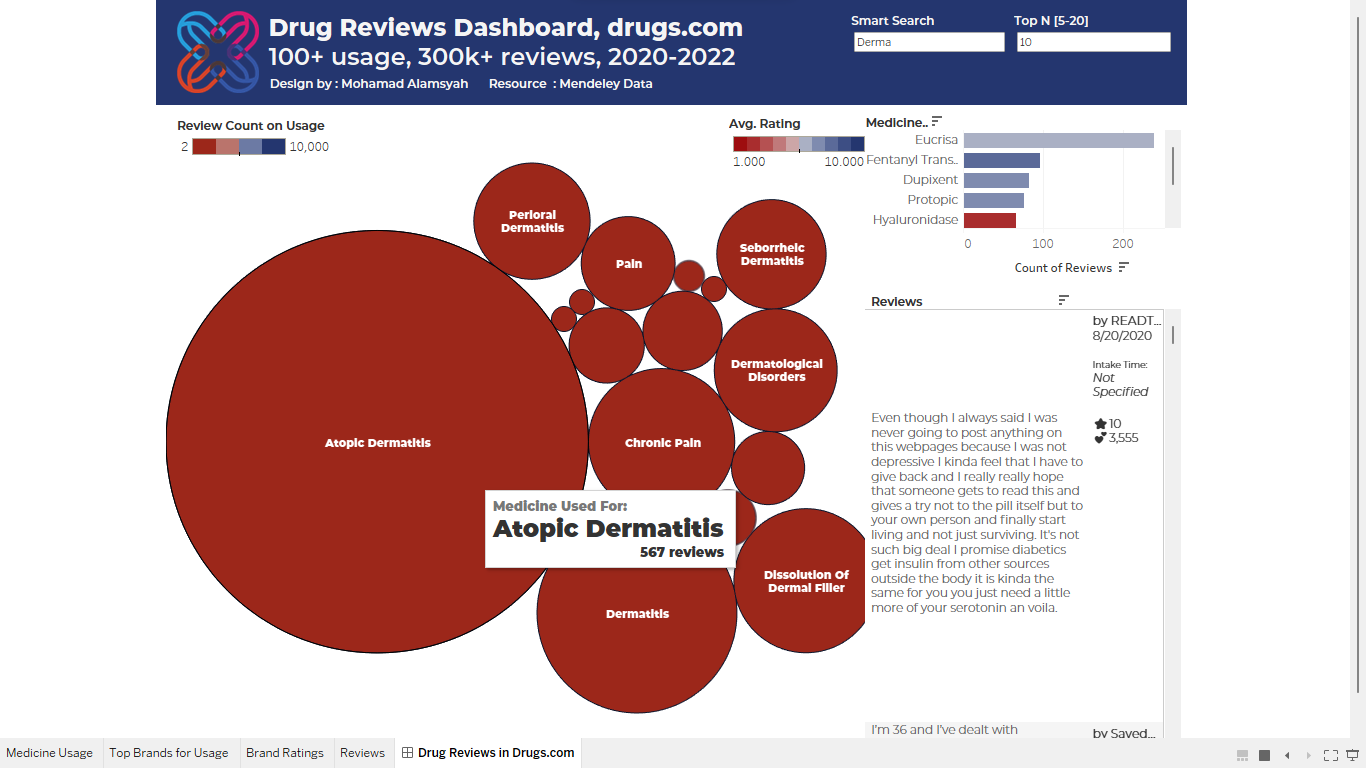

What the dashboard file says about the page in this screenshot:
{"tool":"tableau","page":{"name":"drug-reviews-bigquery","canvas":[1000,800],"ordinal":0},"visuals":[{"type":"text","box":[92,10,523,68]},{"type":"image","param":"C:/Users/acer/Downloads/PROJECTS-2.0/DrugReviews/drugscom-logomark-112x112.png","box":[11,14,78,83]},{"type":"parameter","param":"[Parameters].[Parameter 2]","box":[807,14,159,67]},{"type":"parameter","param":"[Parameters].[Parameter 1]","box":[619,15,151,44]},{"type":"text","box":[620,56,180,45]},{"type":"text","box":[819,62,134,33]},{"type":"text","box":[93,68,440,32]},{"type":"worksheet","title":"Top Brands by Usage","mark":"Automatic","rows":["MedicineBrandName"],"cols":["Reviews"],"box":[605,100,388,215]},{"type":"legend","title":"Medicine Usage","param":"[federated.18pzkps1q4mk2b1e8keax0oiqh2z].[cnt:MedicineUsedFor:qk]","box":[18,115,168,76]},{"type":"legend","title":"Top Brands by Usage","param":"[federated.18pzkps1q4mk2b1e8keax0oiqh2z].[avg:Rating:qk]","box":[357,117,233,76]},{"type":"worksheet","title":"Medicine Usage","mark":"Circle","box":[10,176,591,608]},{"type":"worksheet","title":"Top Generics by Usage","mark":"Automatic","rows":["MedicineGenericName"],"cols":["Reviews"],"box":[606,305,387,214]},{"type":"text","box":[608,525,384,47]},{"type":"worksheet","title":"Reviews","mark":"Automatic","rows":["Reviews"],"box":[605,556,388,234]}]}

Visuals, with their boxes on the page's 1000x800 design canvas (x1, y1, x2, y2). These are canvas units, not pixel positions in the 1366x768 screenshot, which may show the page scaled, cropped or inside an application window:
text: (92,10,615,78)
image: (11,14,89,97)
parameter: (807,14,966,81)
parameter: (619,15,770,59)
text: (620,56,800,101)
text: (819,62,953,95)
text: (93,68,533,100)
"Top Brands by Usage" worksheet: (605,100,993,315)
"Medicine Usage" legend: (18,115,186,191)
"Top Brands by Usage" legend: (357,117,590,193)
"Medicine Usage" worksheet (Circle marks): (10,176,601,784)
"Top Generics by Usage" worksheet: (606,305,993,519)
text: (608,525,992,572)
"Reviews" worksheet: (605,556,993,790)
